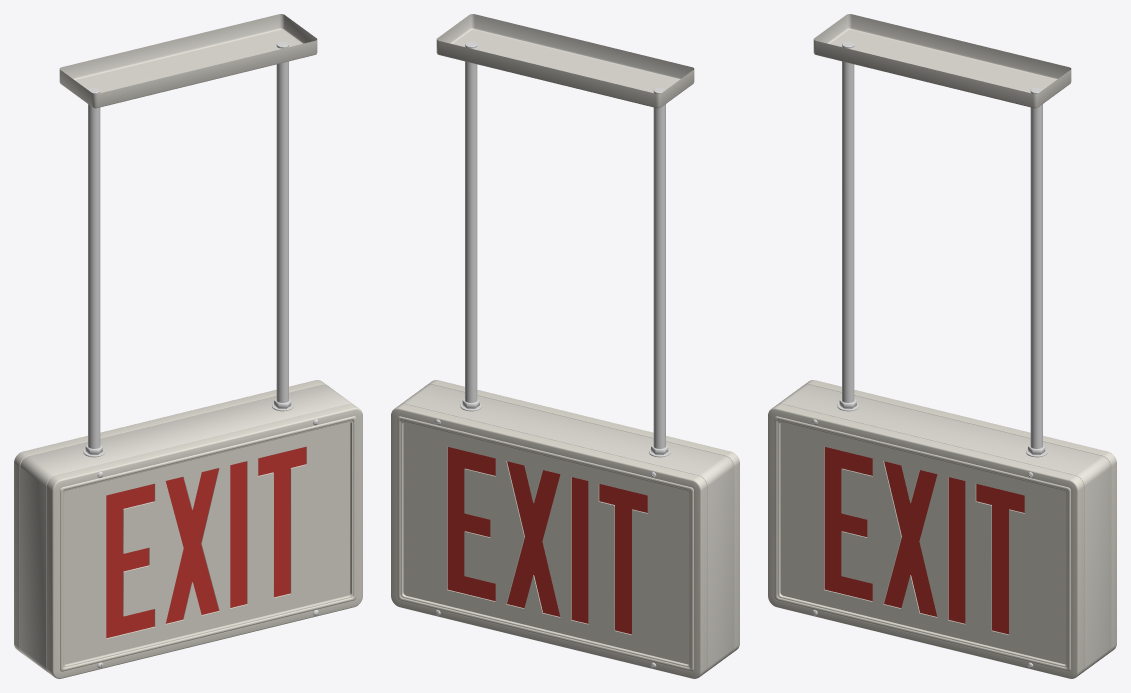
The model's file is Kit_ExitSign_Hanging.fbx.
The picture shows the model from 3 angles, left to right: view 1: azimuth 30°, elevation 25°; view 2: azimuth 150°, elevation 25°; view 3: azimuth 330°, elevation 25°; orthographic projection.
Parts seen in each view (by area): view 1: Kit_ExitSign_Hanging_LOD0; view 2: Kit_ExitSign_Hanging_LOD0; view 3: Kit_ExitSign_Hanging_LOD0.
Part boxes in pixels (bbox=[...]): Kit_ExitSign_Hanging_LOD0: bbox=[14, 14, 362, 678]; Kit_ExitSign_Hanging_LOD0: bbox=[391, 14, 739, 678]; Kit_ExitSign_Hanging_LOD0: bbox=[768, 14, 1116, 678].
Size of what is drawn, in the model's own units: 0.346 by 0.612 by 0.0789.
